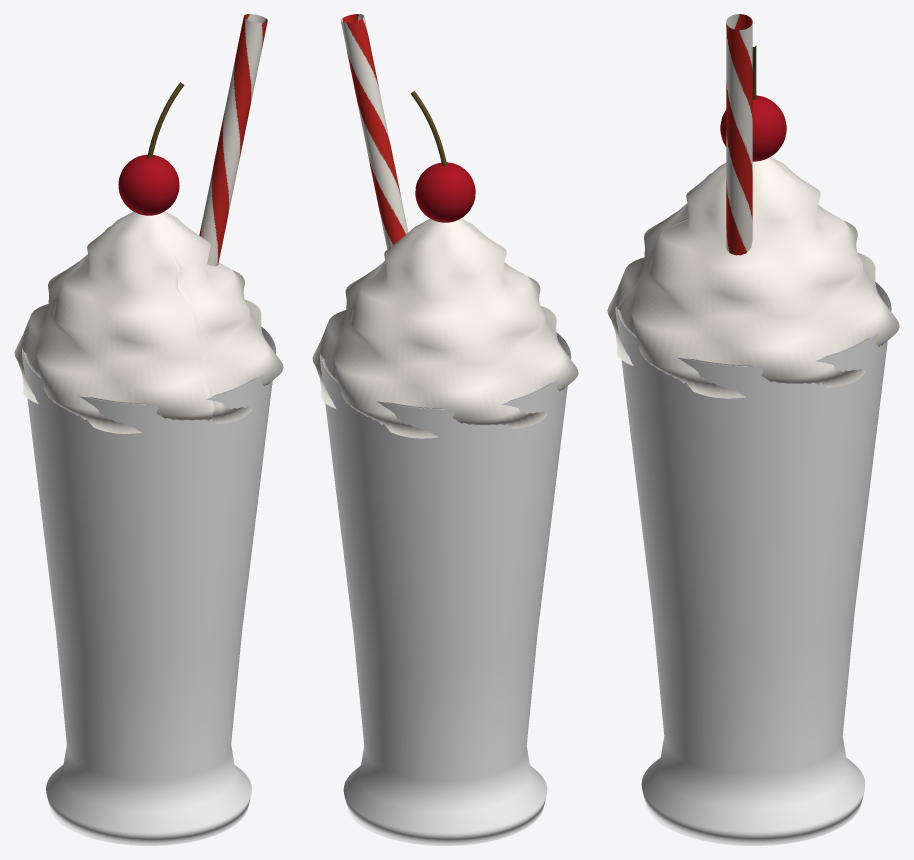
The model's file is shake-chocolate.glb.
3 views of the same model, side by side, from view 1: azimuth 30°, elevation 25°; view 2: azimuth 150°, elevation 25°; view 3: azimuth 270°, elevation 25° (orthographic). The views are drawn at different scales.
Size of the model in its own units: 0.081 by 0.2632 by 0.0836.
Materials: 7 (2 with a texture image).
